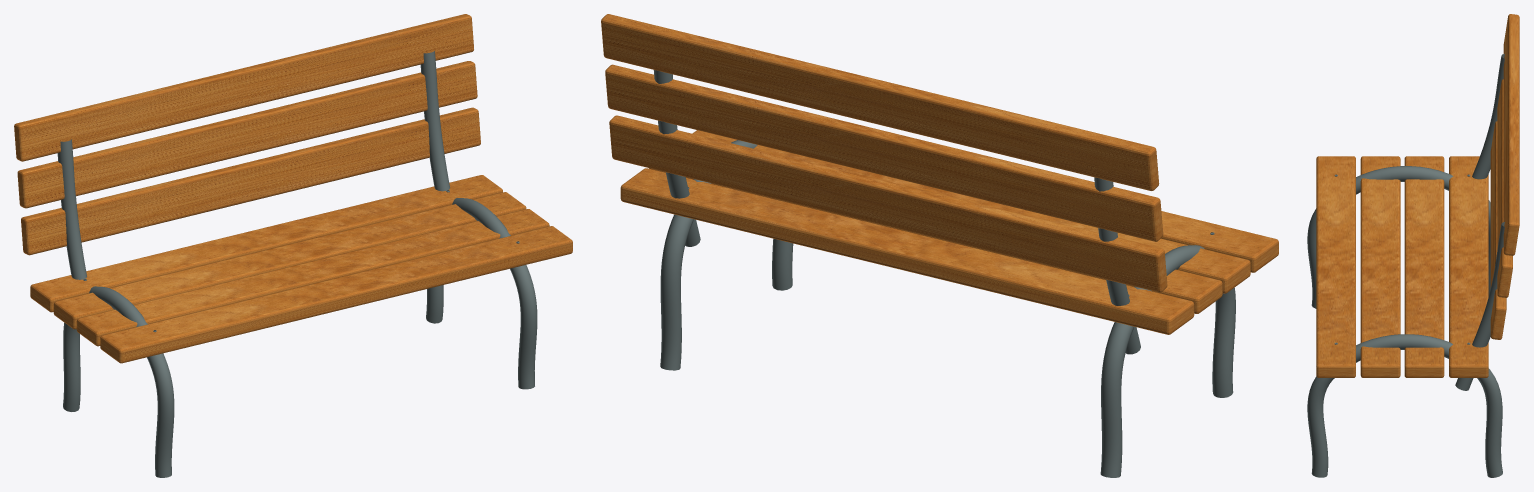
File: ParkBench.fbx
3 views of the same model, side by side, from view 1: azimuth 30°, elevation 25°; view 2: azimuth 150°, elevation 25°; view 3: azimuth 270°, elevation 25° (orthographic). The views are drawn at different scales.
Parts seen in each view (by area): view 1: ParkBench_Body; view 2: ParkBench_Body; view 3: ParkBench_Body.
Boxes of the visible parts, left/top/right/bottom form: ParkBench_Body: left=14, top=14, right=572, bottom=477; ParkBench_Body: left=601, top=14, right=1278, bottom=477; ParkBench_Body: left=1307, top=14, right=1519, bottom=477.
Size of the model in its own units: 1.5 by 0.9102 by 0.64.
